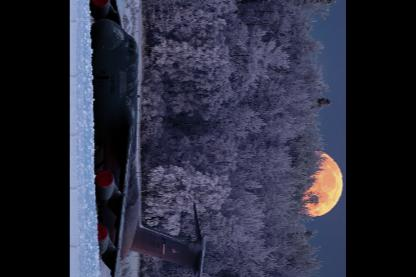C17: (90, 0, 208, 275)
